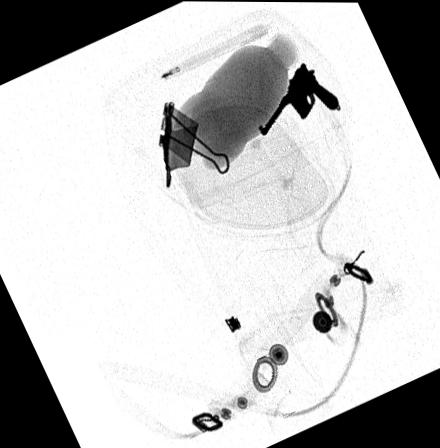Gun: (257, 59, 340, 135)
